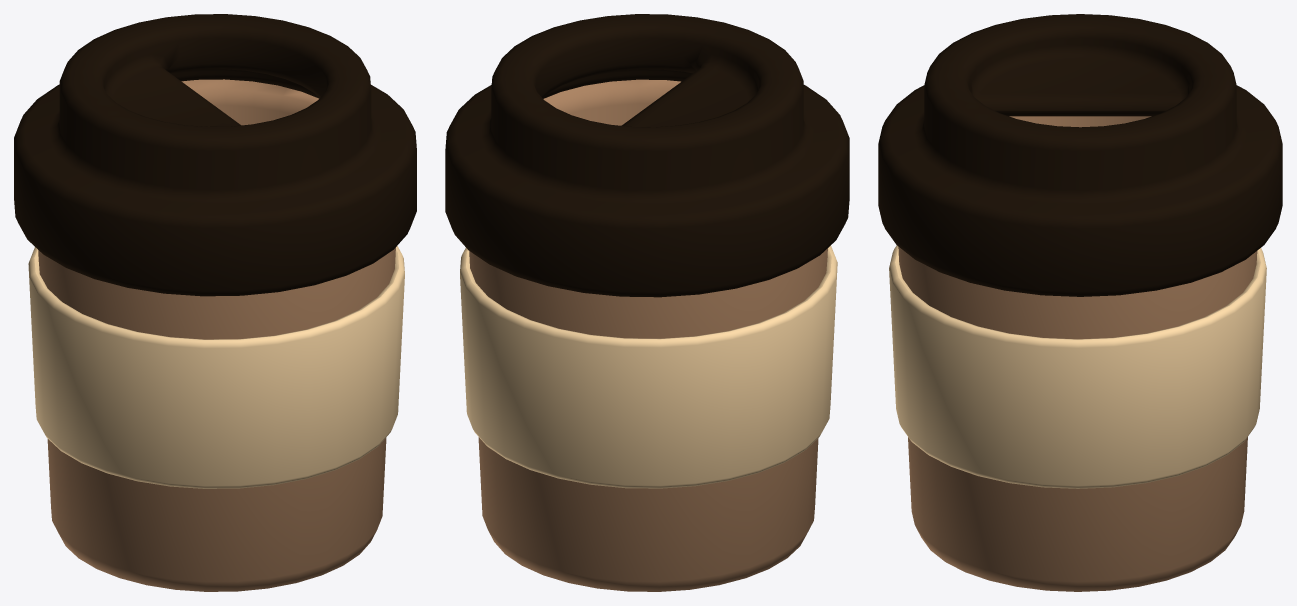
The model's file is tasse-cafe.fbx.
3 views of the same model, side by side, from view 1: azimuth 30°, elevation 25°; view 2: azimuth 150°, elevation 25°; view 3: azimuth 270°, elevation 25° (orthographic).
Visible parts, largest first — view 1: Cup_Coffee, Cup_Coffee_Sleeve, Cup_Coffee_Body; view 2: Cup_Coffee, Cup_Coffee_Sleeve, Cup_Coffee_Body; view 3: Cup_Coffee, Cup_Coffee_Sleeve, Cup_Coffee_Body.
Boxes of the visible parts, bbox=[...] form: Cup_Coffee: bbox=[14, 14, 416, 296]; Cup_Coffee_Sleeve: bbox=[28, 246, 404, 488]; Cup_Coffee_Body: bbox=[38, 79, 395, 591]; Cup_Coffee: bbox=[445, 14, 849, 297]; Cup_Coffee_Sleeve: bbox=[460, 245, 837, 488]; Cup_Coffee_Body: bbox=[469, 79, 827, 591]; Cup_Coffee: bbox=[878, 14, 1282, 296]; Cup_Coffee_Sleeve: bbox=[889, 245, 1266, 488]; Cup_Coffee_Body: bbox=[898, 116, 1257, 591].
Size of the model in its own units: 62.45 by 77.42 by 62.45.
